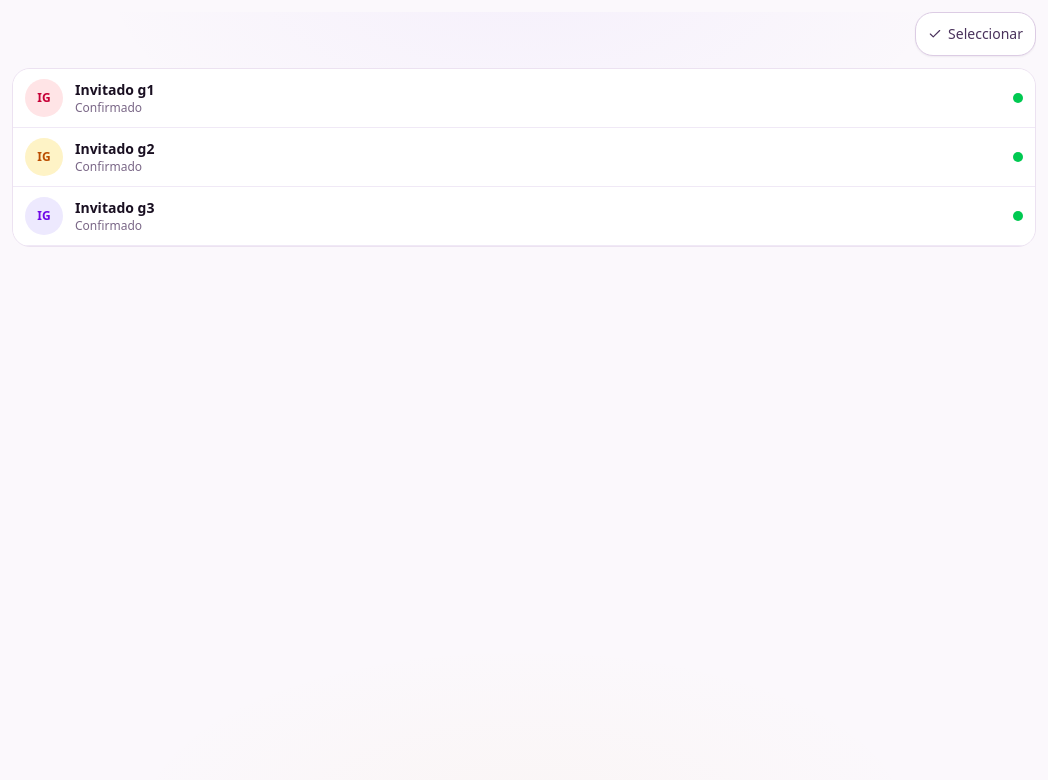
Scenario: GuestList — modo selección › "Cancelar selección" sale del modo selección y limpia lo elegido
The image size is (1048, 780).
Click the button "Seleccionar".
click(976, 34)  # box [915,12,1036,56]
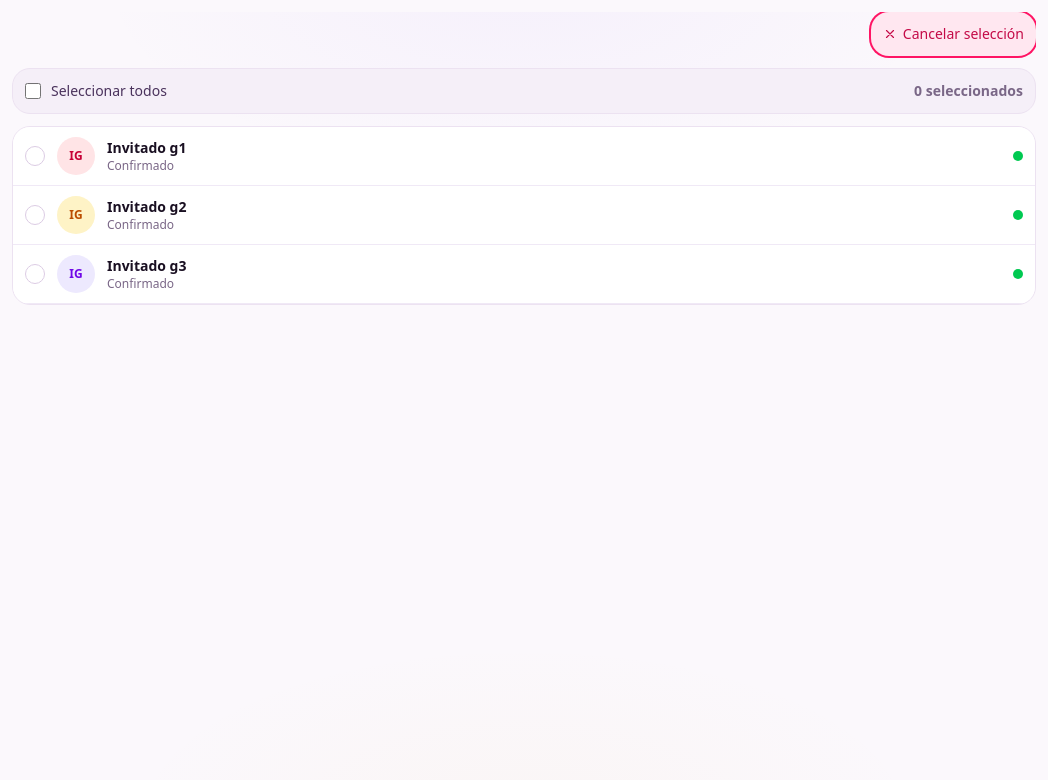
Click the checkbox named "Seleccionar todos los invitados".
click(33, 91)  # box [25,83,41,99]
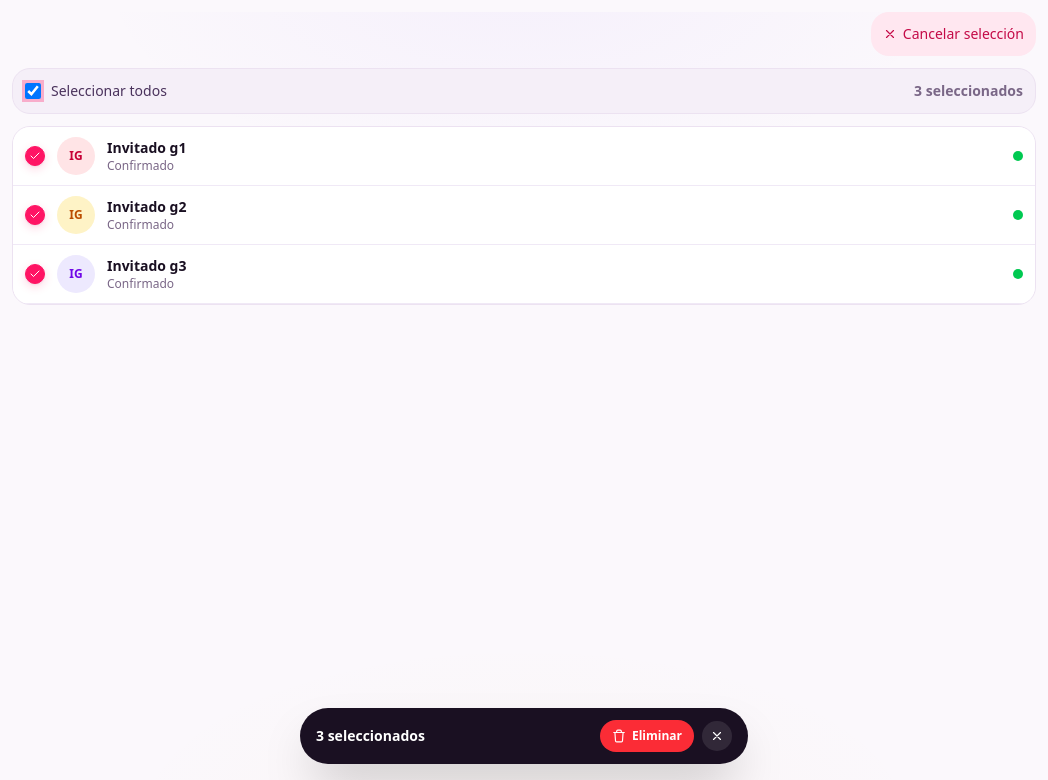
Click the button "Cancelar selección".
click(953, 34)  # box [871,12,1036,56]
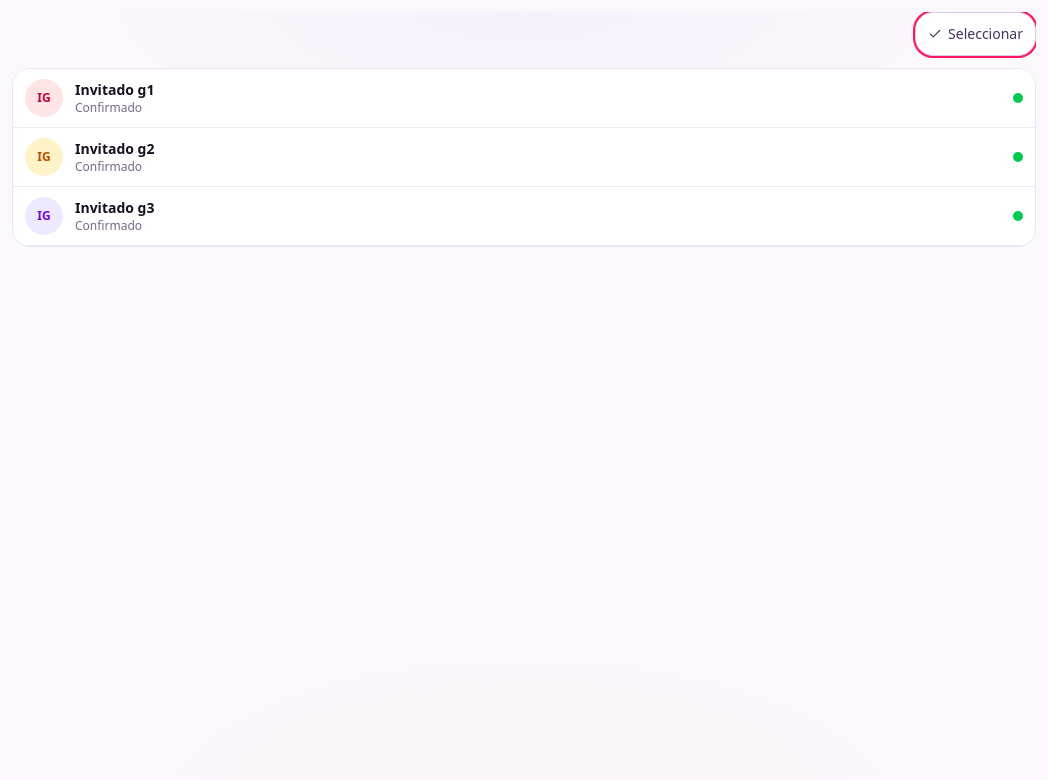
Expected: the button "Seleccionar" is shown, [915,12,1036,56]
